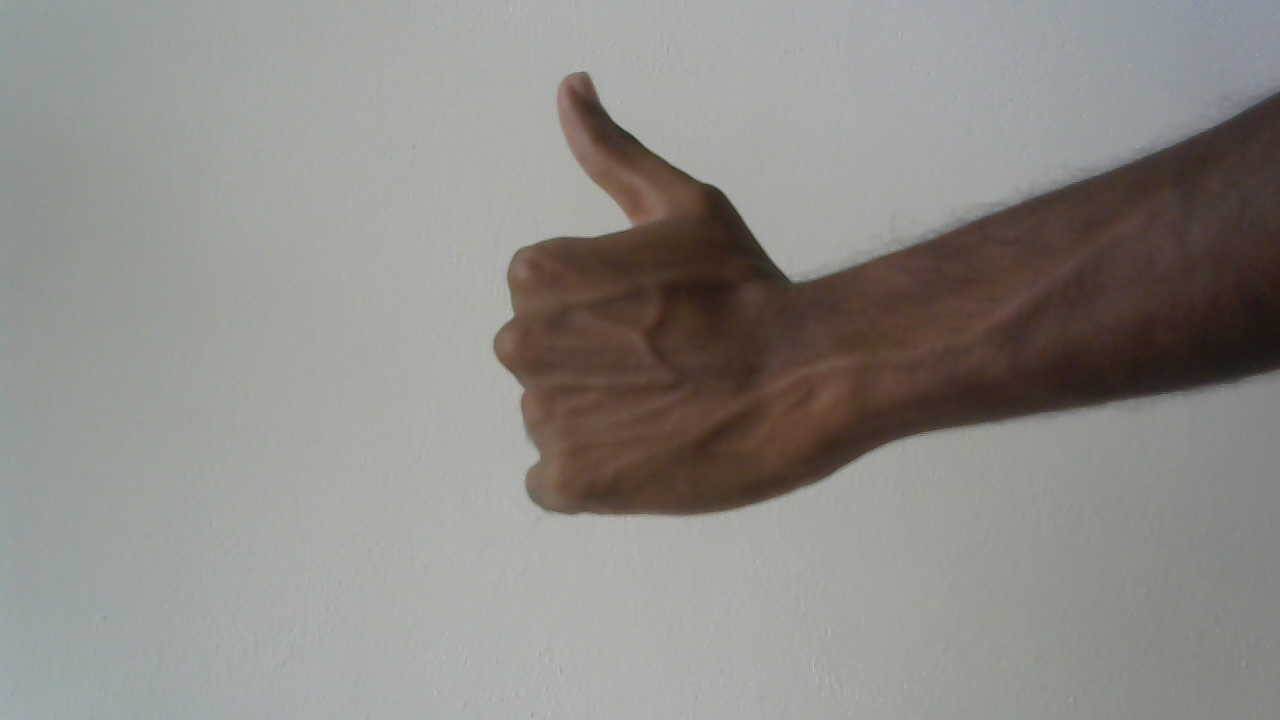thumbsup: (485, 51, 844, 544)
